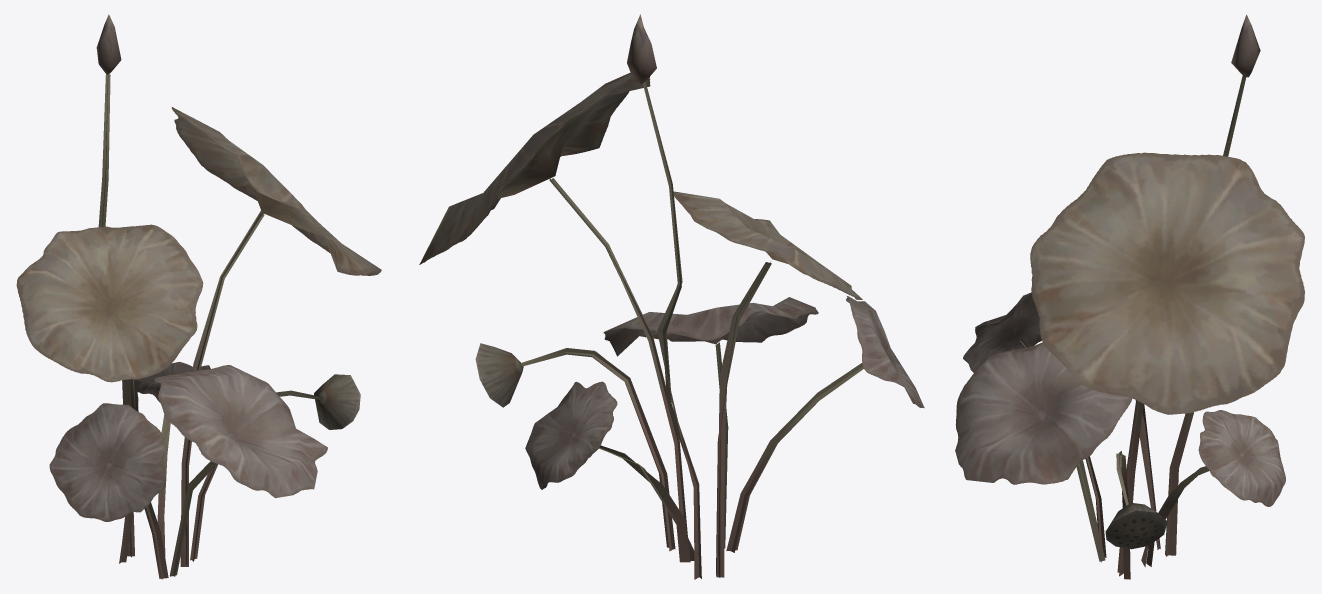
The model's file is SM_Com_Veg_05AS.fbx.
The picture shows the model from 3 angles, left to right: view 1: azimuth 30°, elevation 25°; view 2: azimuth 150°, elevation 25°; view 3: azimuth 270°, elevation 25°; orthographic projection. The views are drawn at different scales.
Parts seen in each view (by area): view 1: SM_Com_Veg_05AS.mo; view 2: SM_Com_Veg_05AS.mo; view 3: SM_Com_Veg_05AS.mo.
Boxes of the visible parts, x1,y1,x2,y2 form: SM_Com_Veg_05AS.mo: [16, 14, 381, 579]; SM_Com_Veg_05AS.mo: [419, 14, 924, 579]; SM_Com_Veg_05AS.mo: [955, 14, 1304, 579].
Bounding box in the file's own units: 0.9572 × 1.34 × 0.7769.
